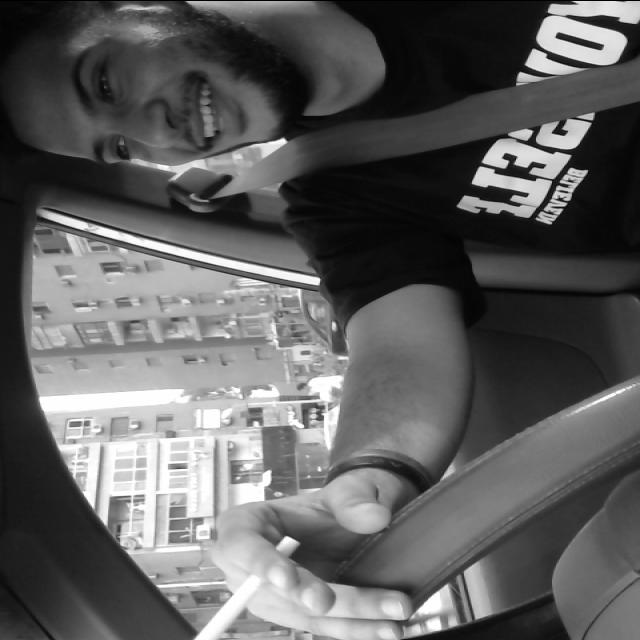smoking: (182, 534, 308, 640)
